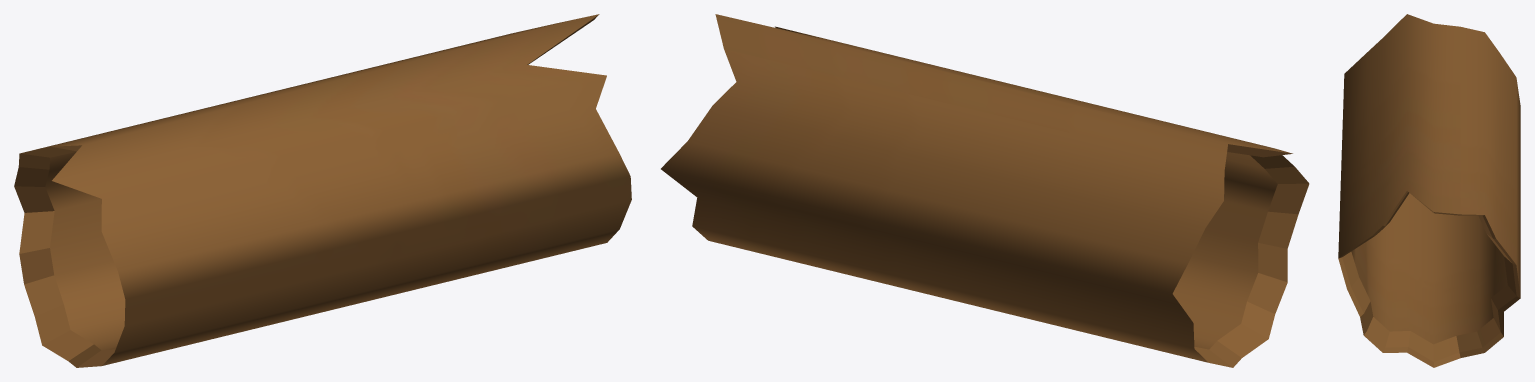
File: log.fbx
3 renders of one model, left to right at view 1: azimuth 30°, elevation 25°; view 2: azimuth 150°, elevation 25°; view 3: azimuth 270°, elevation 25°, orthographic. The views are drawn at different scales.
Visible parts, largest first — view 1: pCylinder16; view 2: pCylinder16; view 3: pCylinder16.
Boxes of the visible parts, x1,y1,x2,y2 form: pCylinder16: (14, 14, 631, 367); pCylinder16: (661, 14, 1309, 367); pCylinder16: (1338, 14, 1520, 367).
Size of the model in its own units: 0.544 by 0.1999 by 0.1995.
